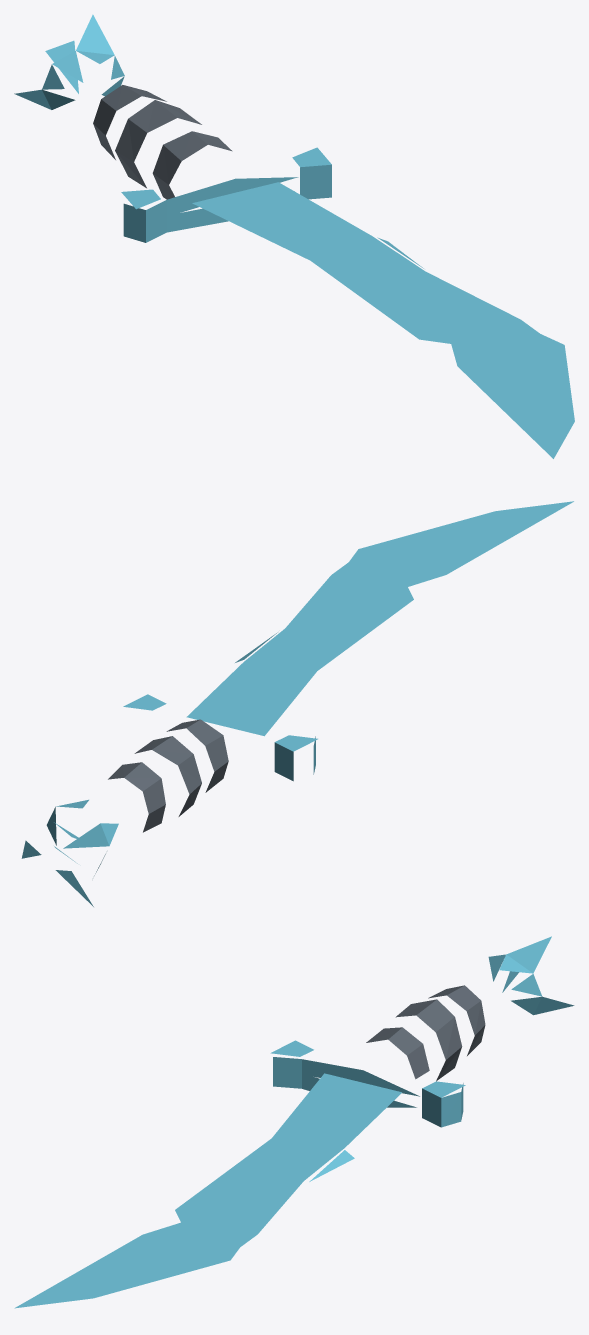
Rendered from phase-knife.lod.glb.
3 views of the same model, one above another, from view 1: azimuth 30°, elevation 25°; view 2: azimuth 150°, elevation 25°; view 3: azimuth 330°, elevation 25° (orthographic). The views are drawn at different scales.
Parts seen in each view (by area): view 1: m; view 2: m; view 3: m.
Part boxes in pixels (<box>): m: <box>14,14,574,458</box>; m: <box>21,501,573,906</box>; m: <box>14,936,574,1308</box>.
Size of the model in its own units: 0.0428 by 0.0228 by 0.195.
